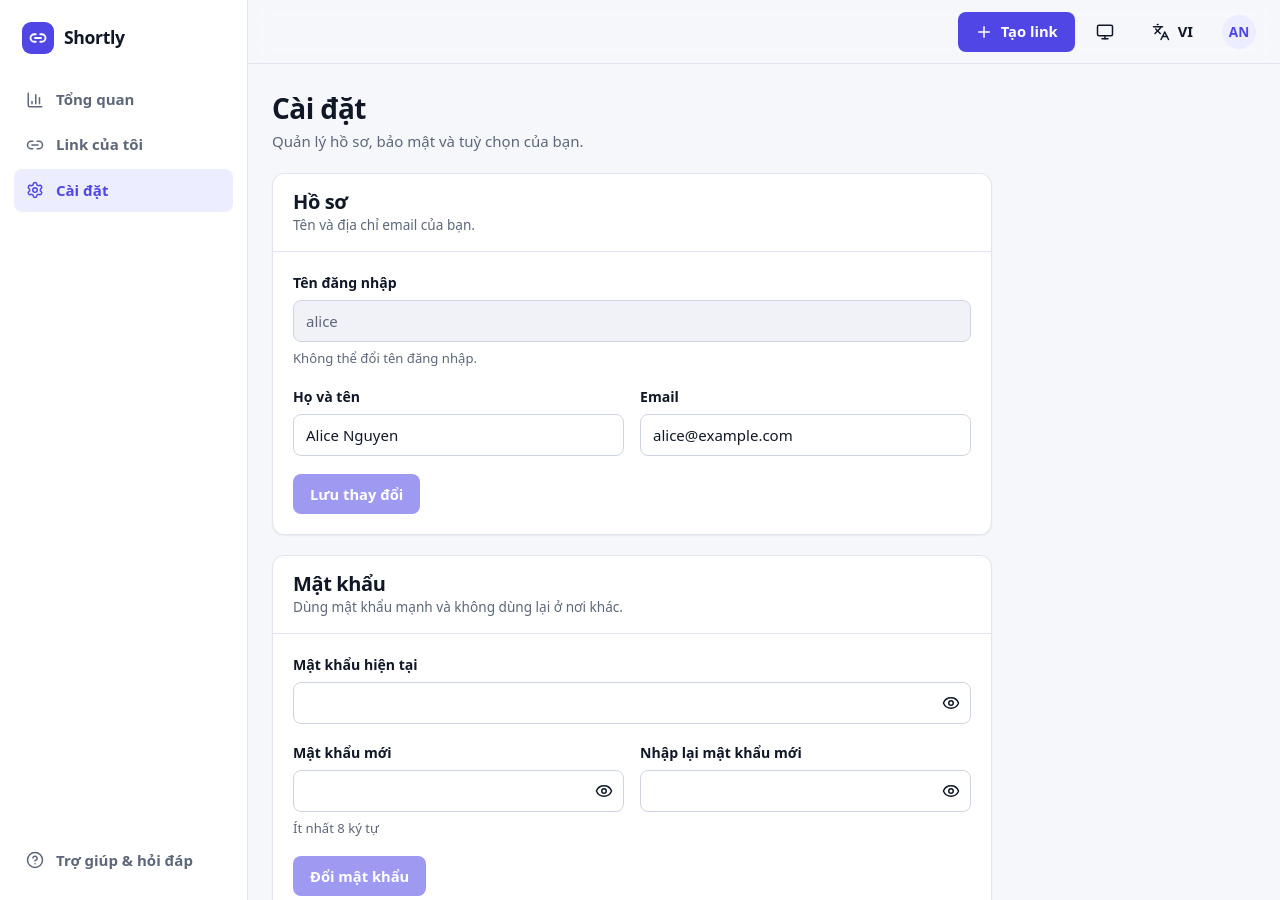
Test: cài đặt: hồ sơ › lưu hồ sơ gửi PUT, báo thành công và cập nhật tên trong menu tài khoản
Replace the text in the field labelled "Họ và tên" with "Alice Tran" at (458, 435), box x1=293 y1=414 x2=624 y2=456
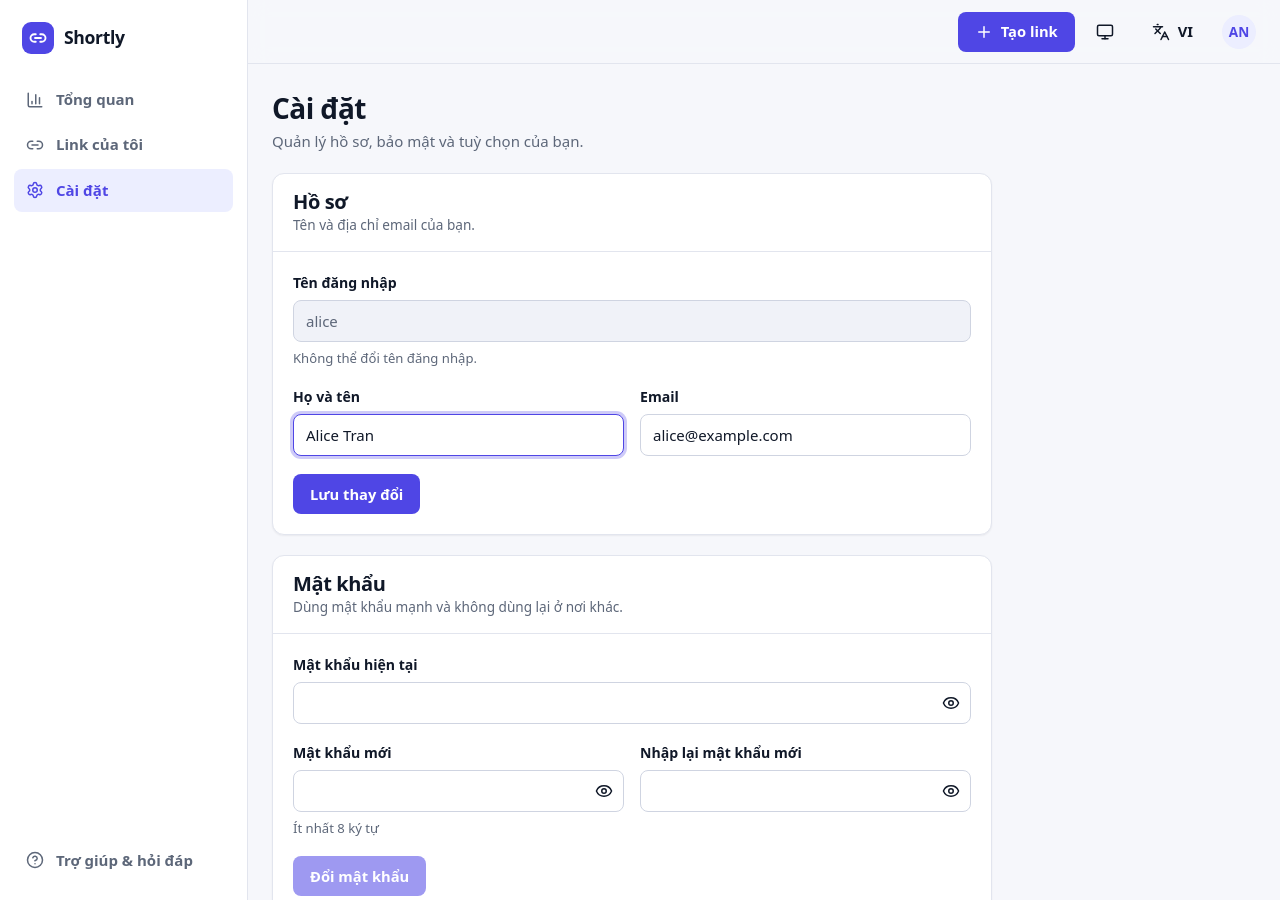
Replace the text in the field labelled "Email" with "tran@example.com" at (806, 435), box x1=640 y1=414 x2=971 y2=456
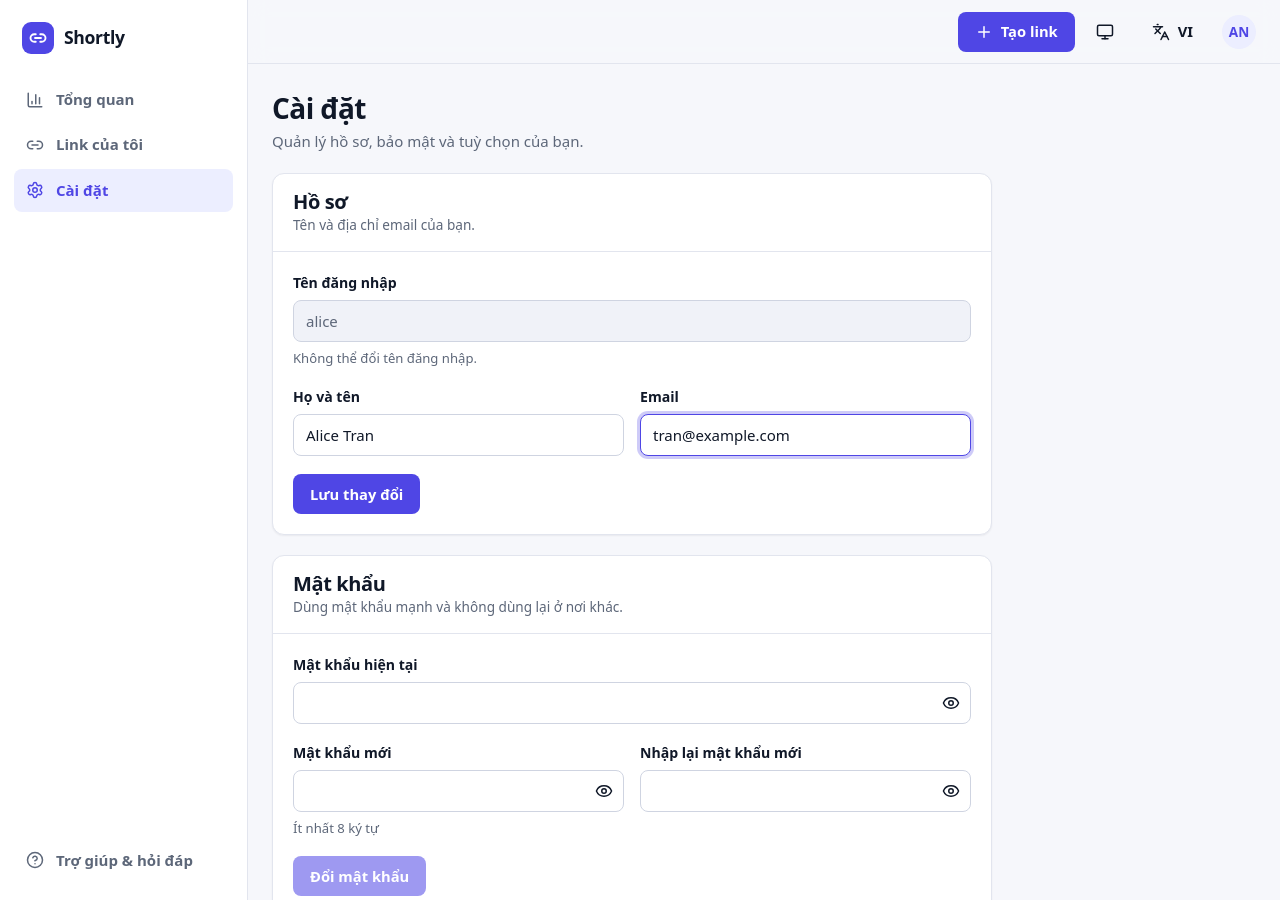
Click the button "Lưu thay đổi" at (357, 494), box x1=293 y1=474 x2=420 y2=514
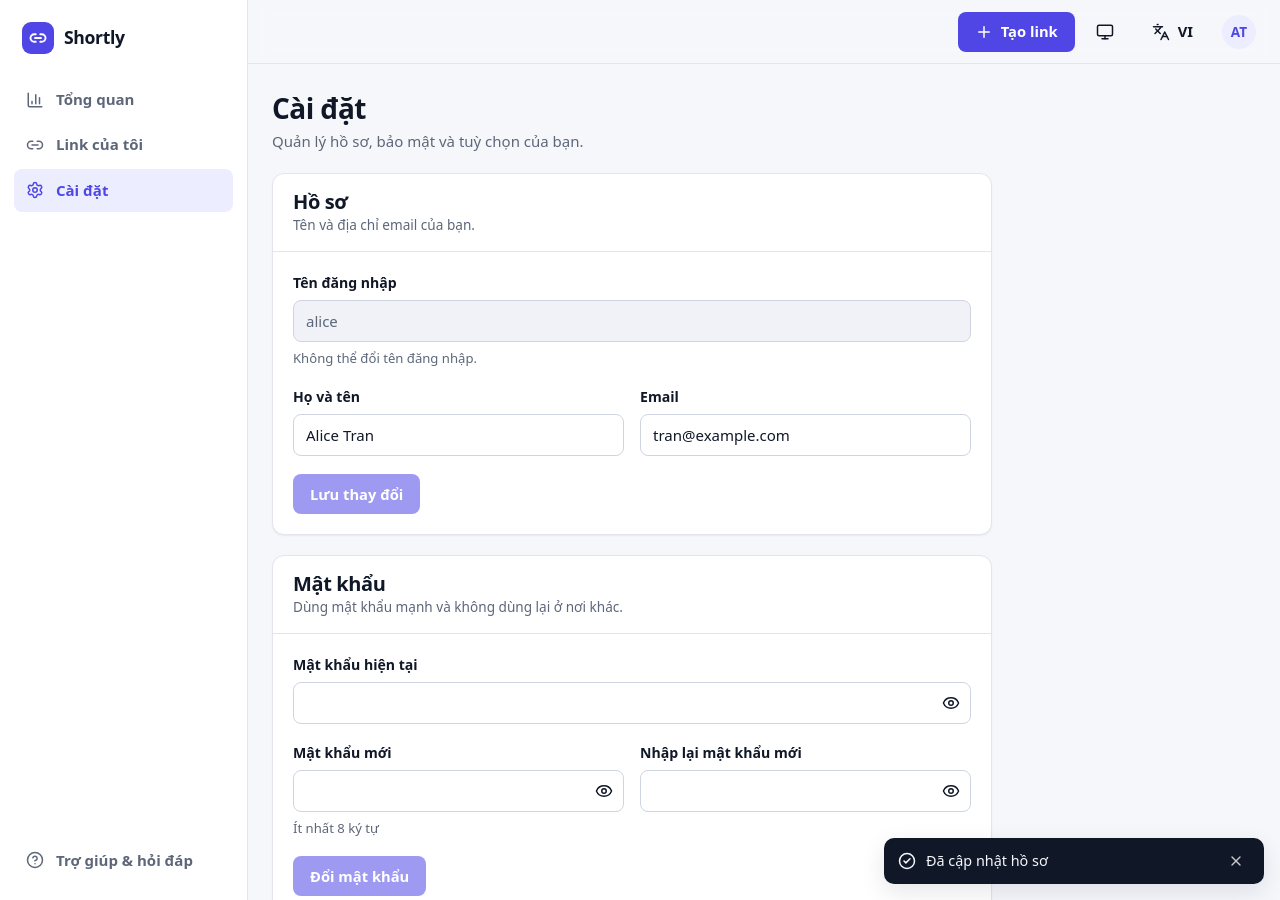
expect the text "Đã cập nhật hồ sơ" is shown: met, box x1=926 y1=850 x2=1048 y2=872
Click the button with aria-label "Menu tài khoản" at (1239, 32), box x1=1222 y1=14 x2=1256 y2=48
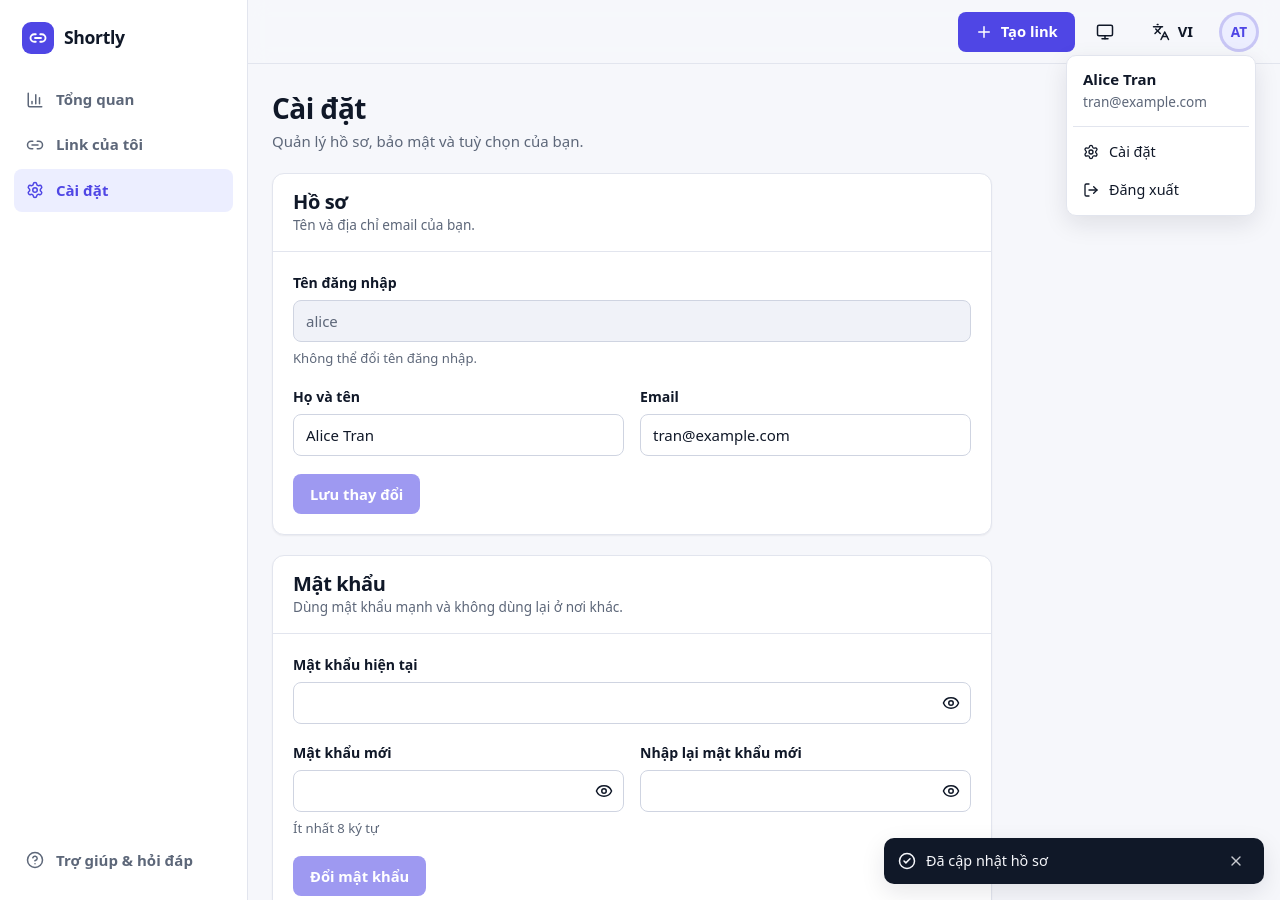
expect the button with aria-label "Menu tài khoản" reads "AT": met, box x1=1222 y1=14 x2=1256 y2=48
expect the text "tran@example.com" is shown: met, box x1=1083 y1=92 x2=1207 y2=111
